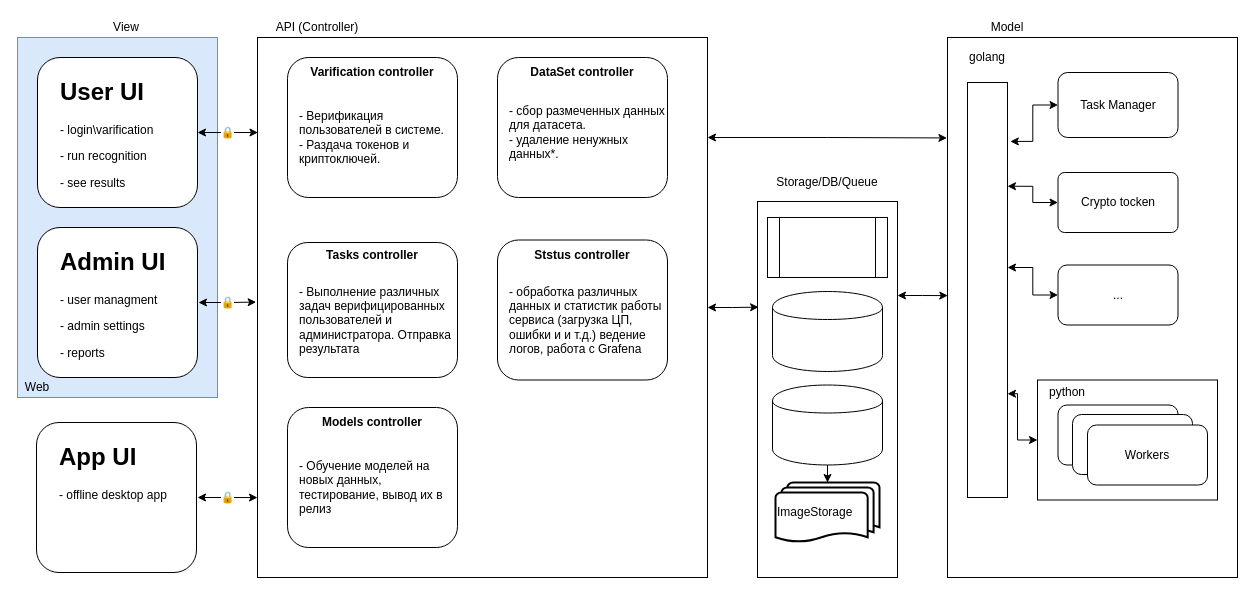
Image size: 1255x595. Some labels were removed from this diagram. The shapes that lost their labels are listed below. From the top down, each one's box as (x1, y1, x2, y2) in pixels, then its label:
(766, 216, 888, 278): RebbitMQ queue
(966, 82, 1008, 498): Task API
(772, 290, 882, 372): Redis DB
(772, 384, 882, 465): PostgreSQL
